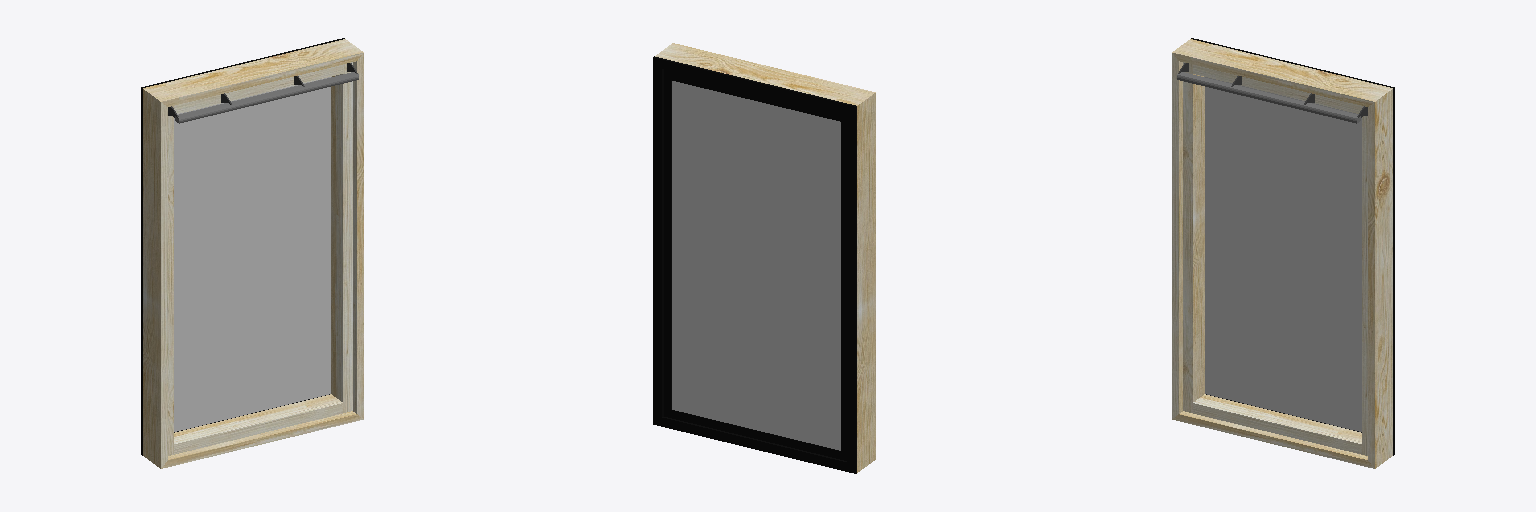
3 views of the same model, side by side, from view 1: azimuth 30°, elevation 25°; view 2: azimuth 150°, elevation 25°; view 3: azimuth 330°, elevation 25° (orthographic).
Visible parts, largest first — view 1: Plane, Cube, Cube.001, Cube.002, Cube.004; view 2: Plane, Cube.004, Cube, Cube.003; view 3: Plane, Cube, Cube.001, Cube.002, Cube.004.
Boxes of the visible parts, <box> form: Plane: <box>174,77,330,431</box>; Cube: <box>143,39,363,468</box>; Cube.001: <box>168,62,352,455</box>; Cube.002: <box>175,72,358,123</box>; Cube.004: <box>141,38,344,455</box>; Plane: <box>672,81,840,450</box>; Cube.004: <box>653,56,856,473</box>; Cube: <box>655,43,875,472</box>; Cube.003: <box>664,70,846,460</box>; Plane: <box>1205,77,1361,431</box>; Cube: <box>1172,39,1392,468</box>; Cube.001: <box>1183,62,1367,455</box>; Cube.002: <box>1177,72,1360,123</box>; Cube.004: <box>1191,38,1394,455</box>.
Size of the model in its own units: 59 by 102 by 13.46.
5 materials, 1 textured.